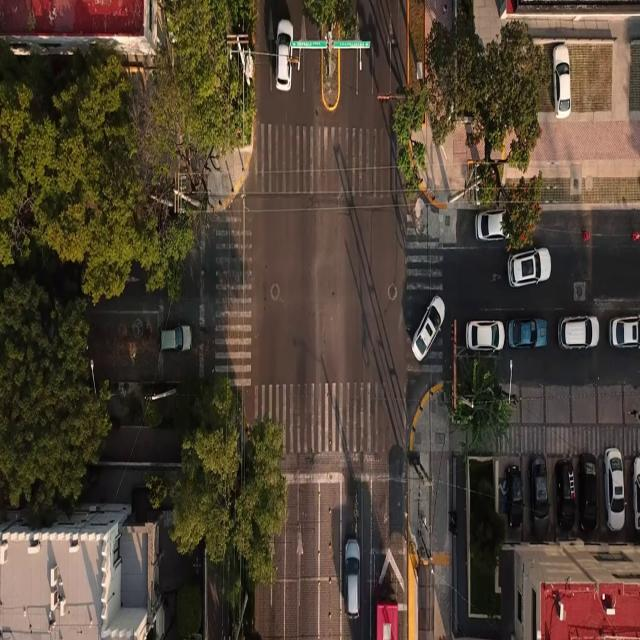car: (412, 296, 444, 360), (529, 455, 549, 541), (604, 448, 624, 531), (508, 248, 550, 287), (555, 458, 576, 530), (579, 453, 597, 531), (558, 317, 599, 349), (553, 44, 570, 118), (507, 319, 547, 349), (345, 538, 360, 617), (466, 320, 504, 351), (276, 20, 292, 90), (506, 465, 523, 527), (610, 316, 640, 348), (476, 209, 505, 240), (160, 325, 192, 351), (633, 456, 639, 531)
